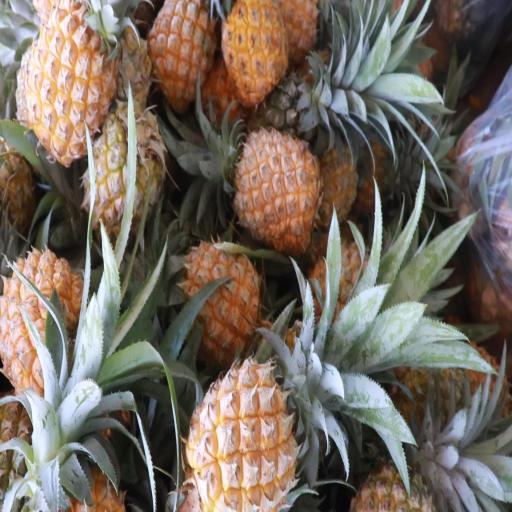------------------------------: (84, 100, 161, 237)
Pineapple - v8 v1: (186, 365, 298, 512), (23, 2, 115, 152), (3, 247, 87, 402), (233, 133, 318, 245), (179, 240, 261, 352), (144, 0, 219, 102), (220, 0, 290, 100)
